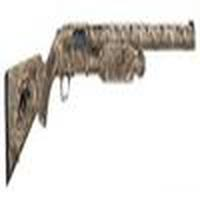gun: (4, 20, 195, 188)
